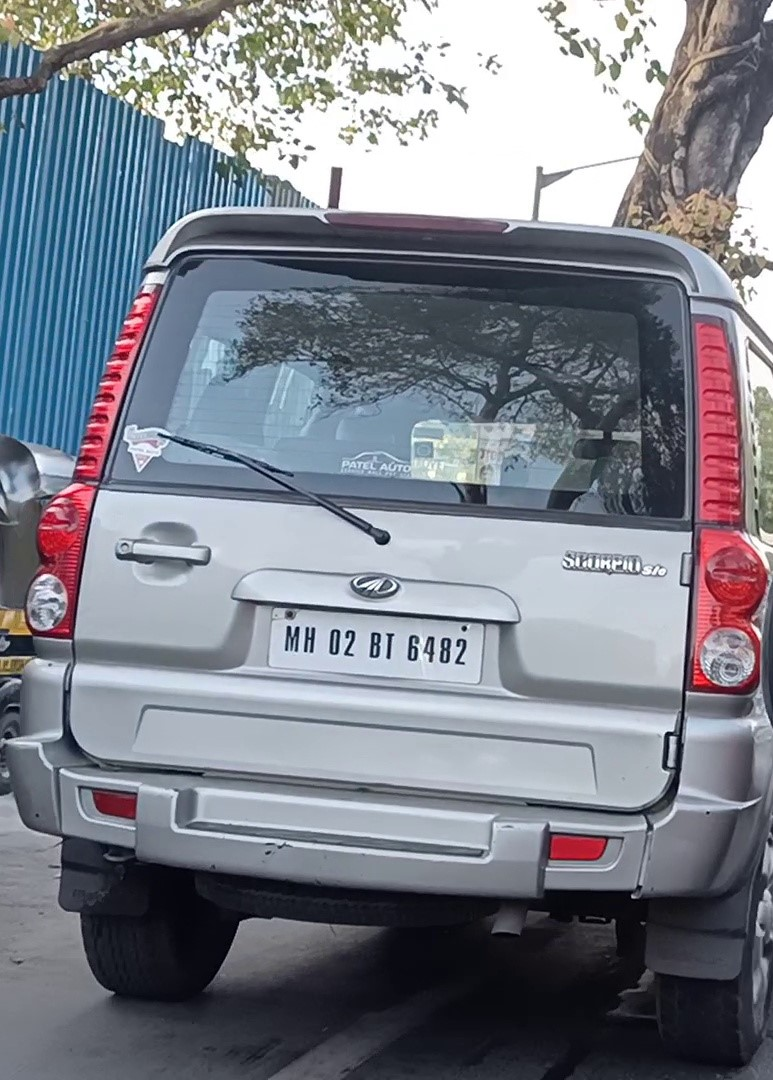MH02BT6482: (267, 605, 486, 688)
